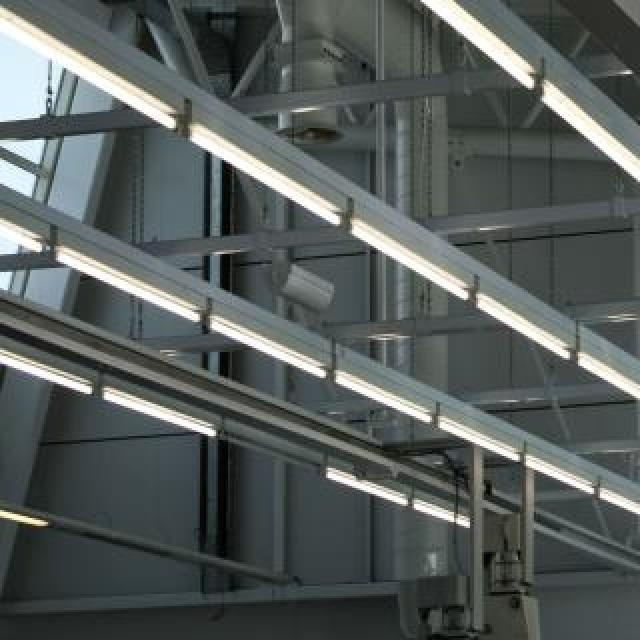fluorescent tube: (0, 0, 194, 168), (328, 0, 554, 120), (178, 111, 366, 253), (36, 231, 225, 344), (528, 28, 640, 218), (335, 193, 489, 327), (189, 293, 353, 385), (305, 340, 447, 442), (473, 266, 585, 389), (552, 310, 640, 446), (94, 380, 234, 460), (0, 336, 116, 419), (425, 402, 535, 482), (316, 460, 433, 531), (513, 433, 602, 520), (0, 202, 71, 278), (402, 495, 485, 545), (582, 474, 640, 540), (638, 358, 640, 468)
